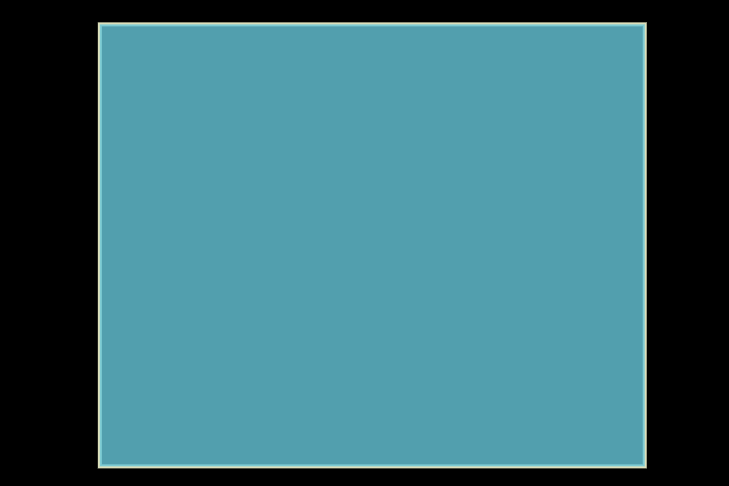Person: (99, 24, 644, 466)
